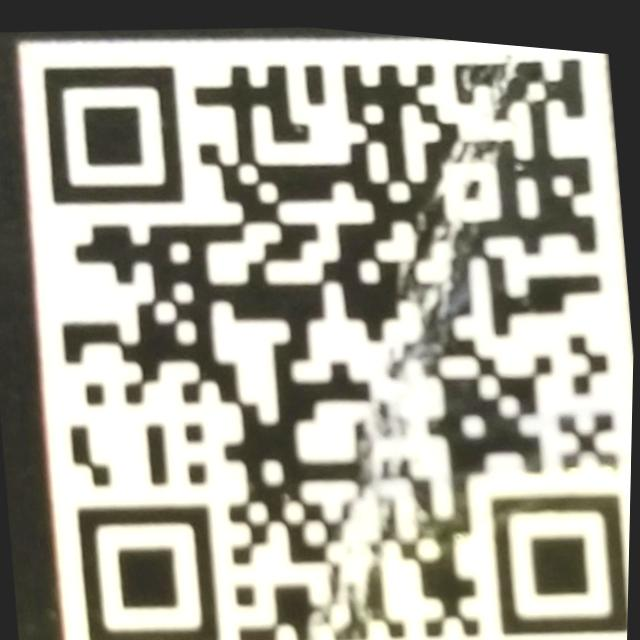QR_CODE: (29, 6, 640, 640)
